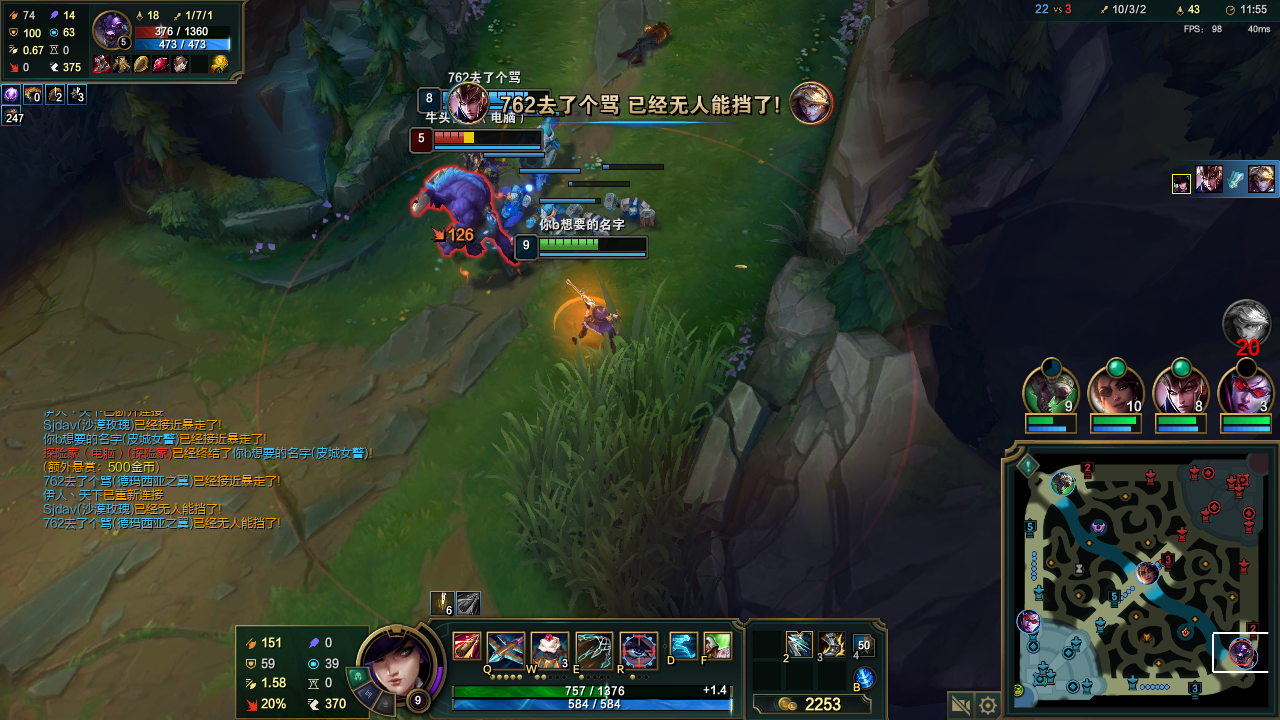DFYX: (427, 133, 533, 146)
KF: (787, 633, 809, 651)
WFXB: (545, 214, 579, 254), (579, 210, 613, 248), (534, 123, 566, 163), (615, 194, 651, 229), (530, 199, 555, 219)
